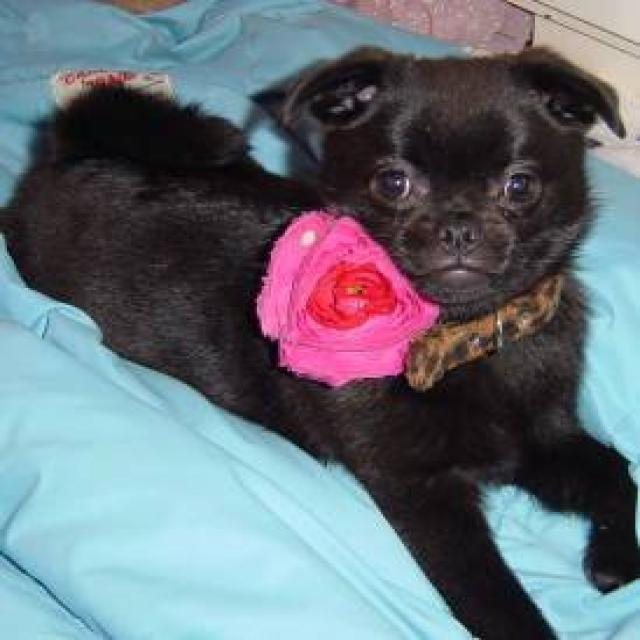dog-pug: (2, 38, 635, 636)
